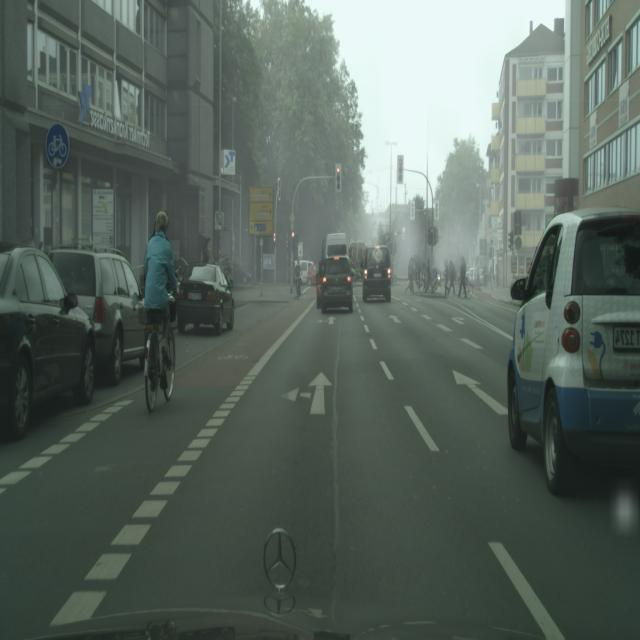car: (144, 299, 176, 412)
person: (143, 209, 178, 393), (458, 256, 468, 298), (445, 258, 455, 296), (294, 260, 302, 299), (448, 258, 456, 296)
train: (316, 232, 353, 313), (362, 244, 392, 302)
truck: (507, 208, 640, 495), (0, 245, 96, 439), (50, 246, 147, 385), (176, 261, 235, 336)
